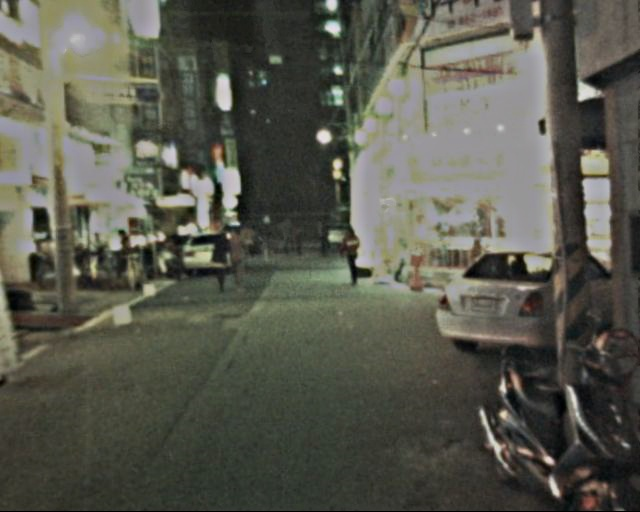person: (221, 223, 255, 292), (276, 219, 328, 258), (204, 225, 233, 291), (336, 223, 365, 286), (253, 213, 278, 266)
